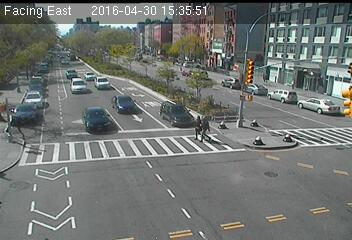neg: (124, 181, 148, 213), (293, 71, 315, 99), (212, 49, 233, 78), (32, 128, 51, 153), (37, 173, 55, 198), (246, 39, 264, 62), (250, 131, 267, 154), (26, 88, 43, 110), (88, 116, 104, 138), (168, 56, 183, 76), (184, 193, 198, 212), (76, 65, 89, 83), (41, 32, 53, 49), (104, 41, 116, 57), (284, 127, 295, 142), (270, 168, 280, 182), (315, 123, 325, 137)
pos: (200, 115, 220, 141), (189, 112, 206, 136)
